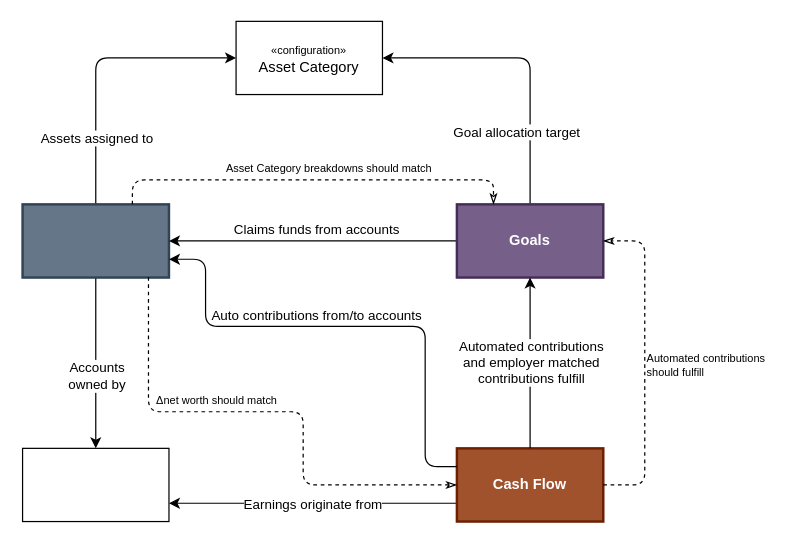
Some shapes in this 786 by 544 pixel diagram are drawn without their labels. Each missing label, with the centre of its shape:
"Balance Sheet" belongs at point 95,240.
"«configuration» Person" belongs at point 95,484.
